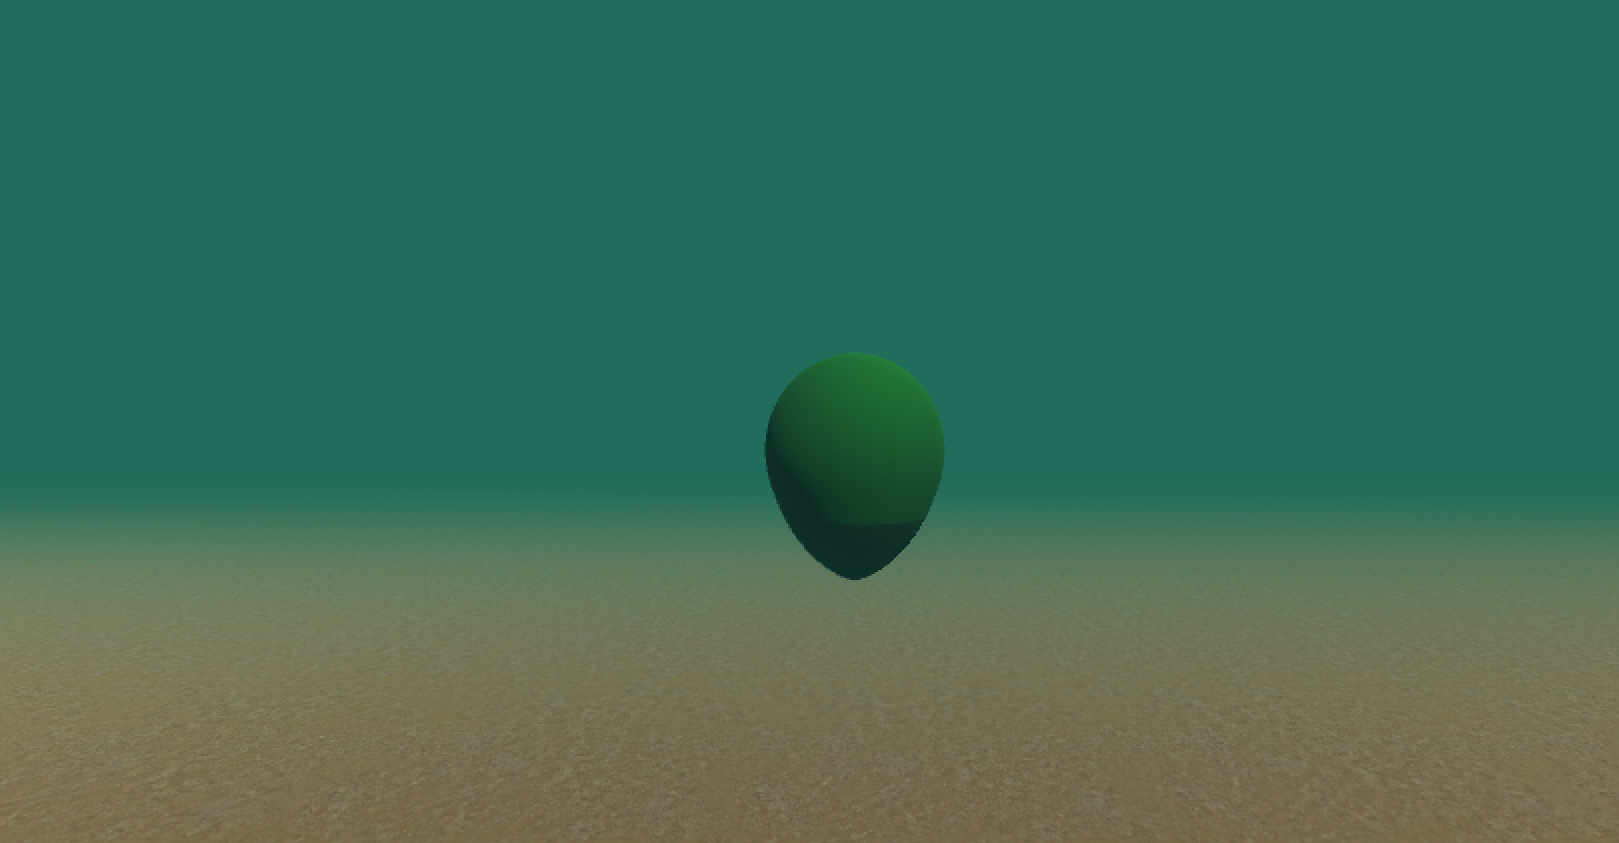green buoy: (760, 348, 950, 585)
